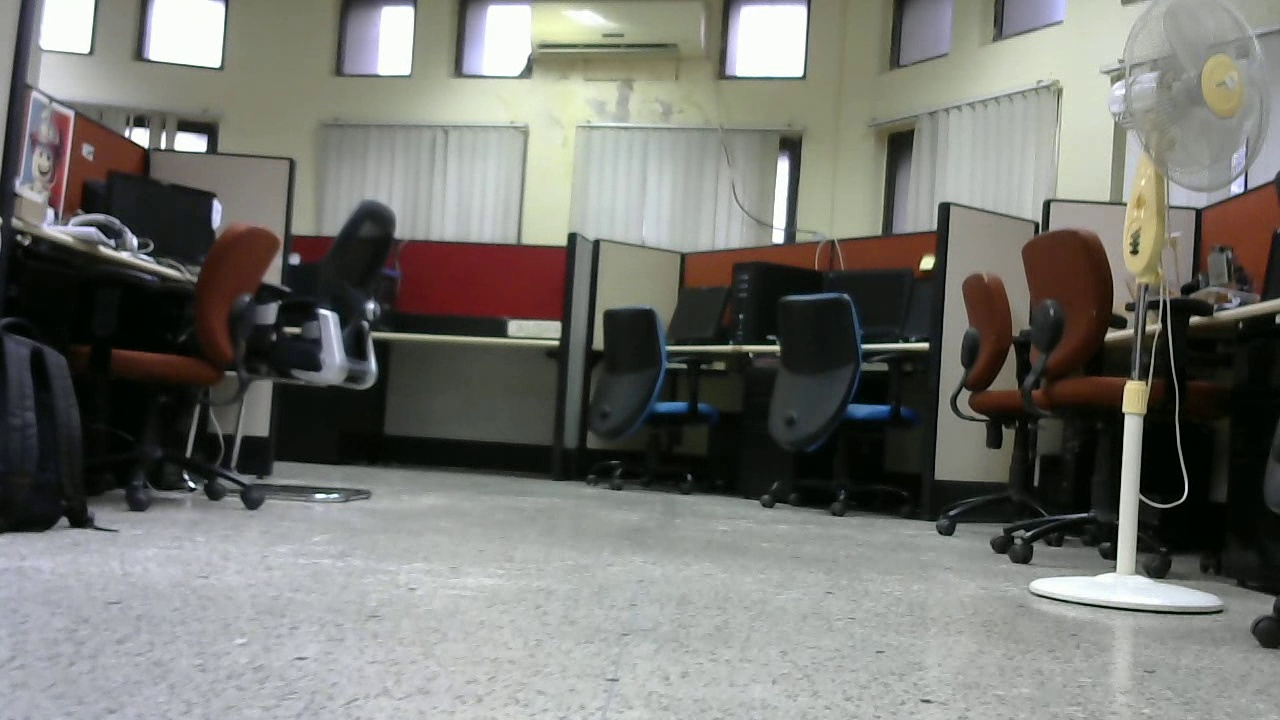chair: (92, 213, 297, 502), (1015, 228, 1173, 565), (921, 263, 1083, 542), (265, 198, 407, 503), (762, 294, 914, 532), (587, 305, 718, 496)
